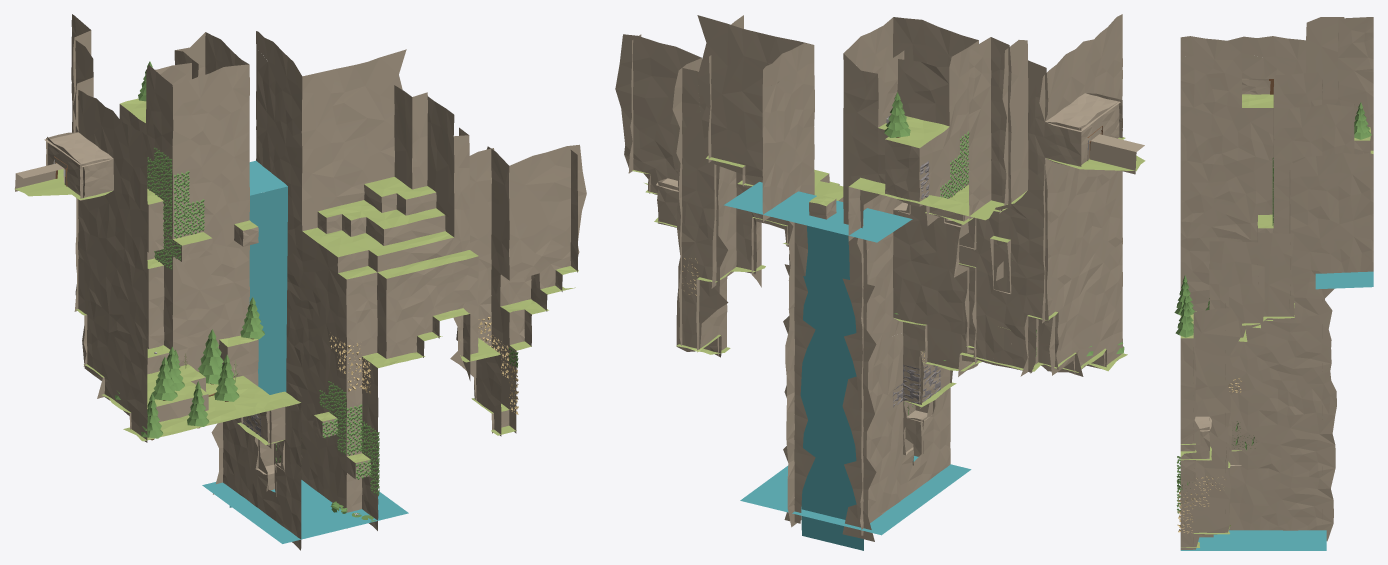
The picture shows the model from 3 angles, left to right: view 1: azimuth 30°, elevation 25°; view 2: azimuth 150°, elevation 25°; view 3: azimuth 270°, elevation 25°; orthographic projection. The views are drawn at different scales.
Parts seen in each view (by area): view 1: 6; view 2: 6; view 3: 6.
Part boxes in pixels (<box>): 6: <box>14,14,586,550</box>; 6: <box>615,14,1145,550</box>; 6: <box>1174,17,1373,550</box>.
Size of the model in its own units: 33.78 by 31.16 by 12.4.
1 material, 1 textured.
